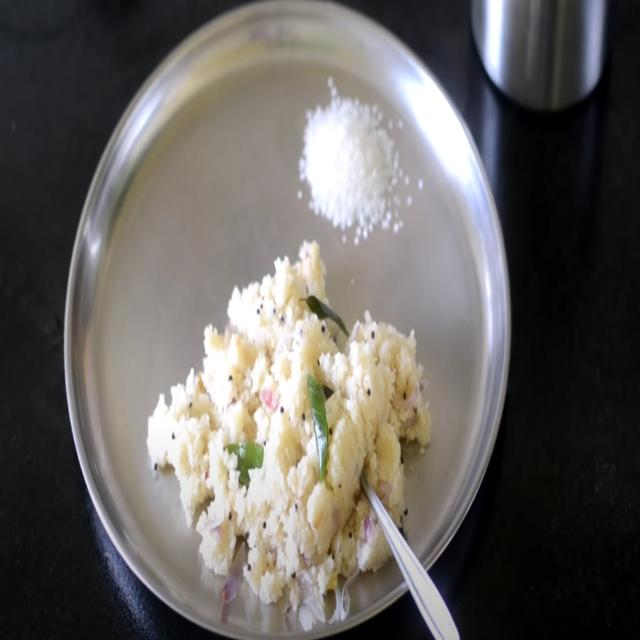upma: (140, 223, 440, 637)
